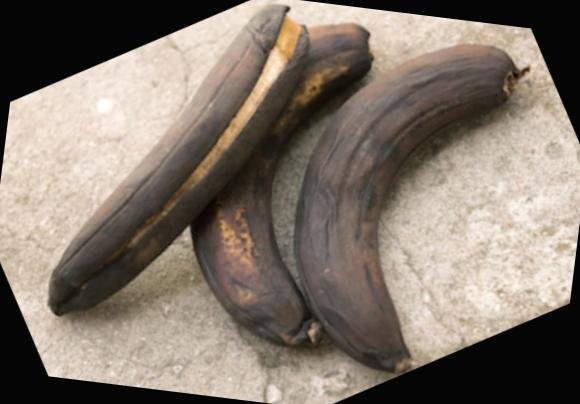Banana Overripe: (28, 0, 536, 404)
